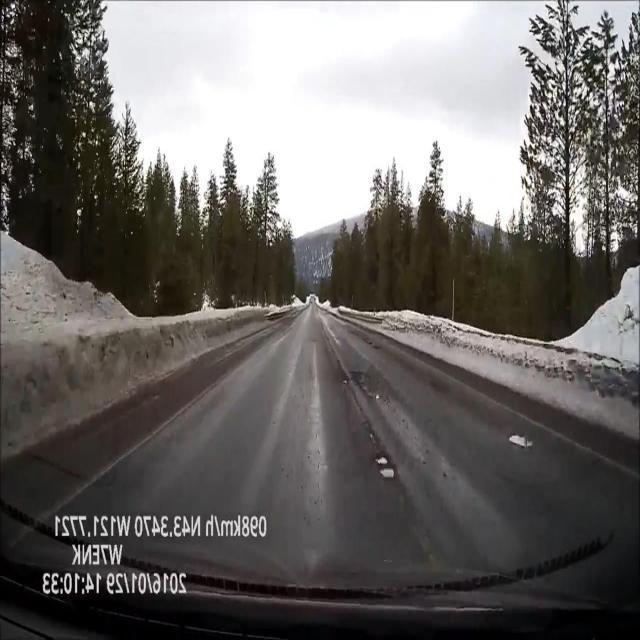Pothole: (361, 442, 411, 490), (497, 425, 547, 458)
